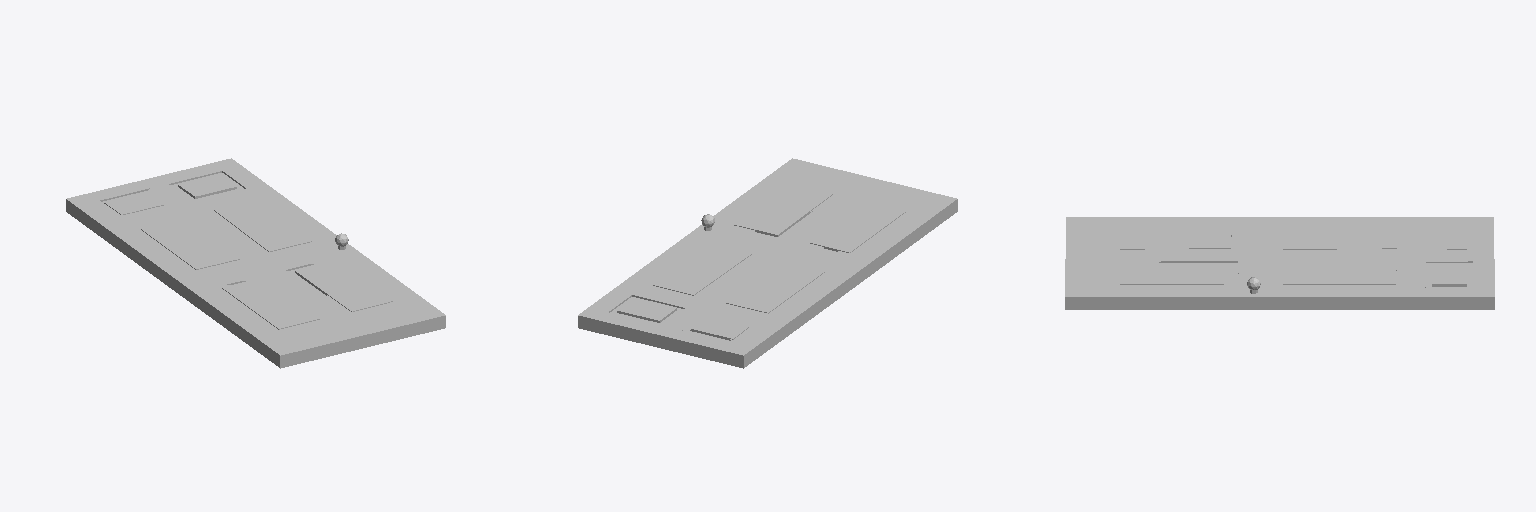
Rendered from Door.obj.
The picture shows the model from 3 angles: view 1: azimuth 30°, elevation 25°; view 2: azimuth 150°, elevation 25°; view 3: azimuth 270°, elevation 25°; orthographic projection.
Visible parts, largest first — view 1: dOOR_Cylinder; view 2: dOOR_Cylinder; view 3: dOOR_Cylinder.
Boxes of the visible parts, x1,y1,x2,y2 form: dOOR_Cylinder: [66, 158, 445, 368]; dOOR_Cylinder: [578, 158, 957, 368]; dOOR_Cylinder: [1065, 217, 1494, 309].
Size of the model in its own units: 2.23 by 0.3574 by 4.99.